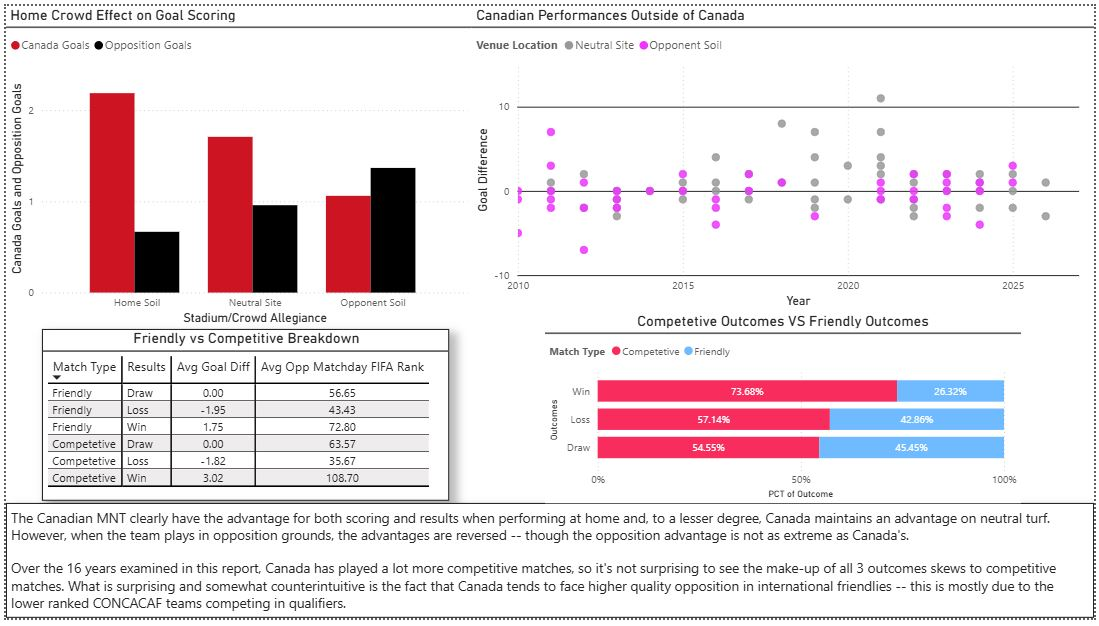

What the dashboard file says about the page in this screenshot:
{"tool":"powerbi","page":{"name":"Crowd Advantage  & Competitive Scale","canvas":[1280,720],"ordinal":3},"visuals":[{"type":"lineClusteredColumnComboChart","title":"Home Crowd Effect on Goal Scoring","fields":{"Y":["Avg(Canada_Matches.canada_score)","Avg(Canada_Matches.opponent_score)"],"Category":["Canada_Matches.venue_type"]},"box":[0,0,548.1,380.5],"z":0},{"type":"scatterChart","title":"Canadian Performances Outside of Canada","fields":{"Series":["results_vs_opponent_strength.venue_type"],"Y":["results_vs_opponent_strength.goal_diff"],"X":["results_vs_opponent_strength.match_date.Variation.Date Hierarchy.Year","results_vs_opponent_strength.match_date.Variation.Date Hierarchy.Month","results_vs_opponent_strength.match_date.Variation.Date Hierarchy.Day"]},"box":[548.2,0,731.8,360],"z":1000},{"type":"tableEx","title":"Friendly vs Competitive Breakdown","fields":{"Values":["results_vs_opponent_strength.match_type","results_vs_opponent_strength.results","Avg(results_vs_opponent_strength.goal_diff)","Avg(results_vs_opponent_strength.opponent_rank_at_match_time)"]},"box":[42.4,380,478.8,202.4],"z":2000},{"type":"textbox","box":[0,584.7,1280,135.3],"z":3000},{"type":"hundredPercentStackedBarChart","title":"Competetive Outcomes VS Friendly Outcomes","fields":{"Category":["results_vs_opponent_strength.results"],"Series":["results_vs_opponent_strength.match_type"],"Y":["CountNonNull(results_vs_opponent_strength.match_date)"]},"box":[634.1,360,560,224.7],"z":4000}]}

Visuals, with their boxes in screenshot pixels (x1, y1, x2, y2), scaled from the page's 1280x720 canvas onto the 1099x626 screenshot:
"Home Crowd Effect on Goal Scoring" lineClusteredColumnComboChart: 0/0/471/331
"Canadian Performances Outside of Canada" scatterChart: 471/0/1098/313
"Friendly vs Competitive Breakdown" tableEx: 36/330/447/506
textbox: 0/508/1098/625
"Competetive Outcomes VS Friendly Outcomes" hundredPercentStackedBarChart: 544/313/1025/508
